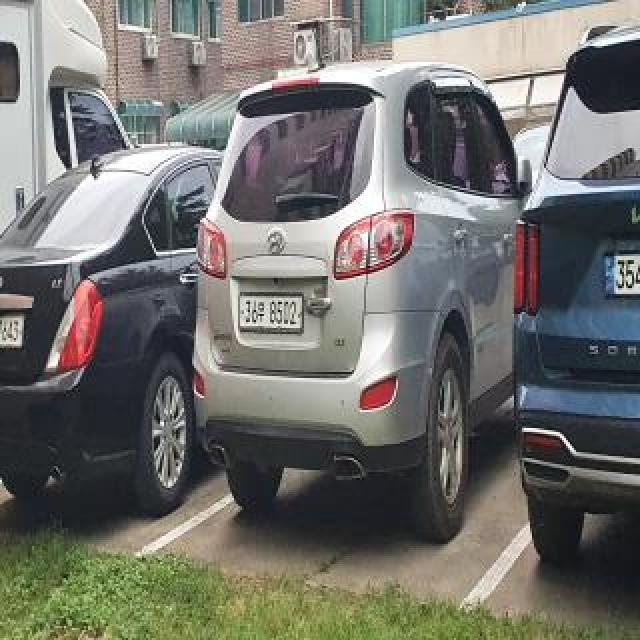car: (183, 56, 512, 552)
illegal_plate: (237, 290, 303, 338)
